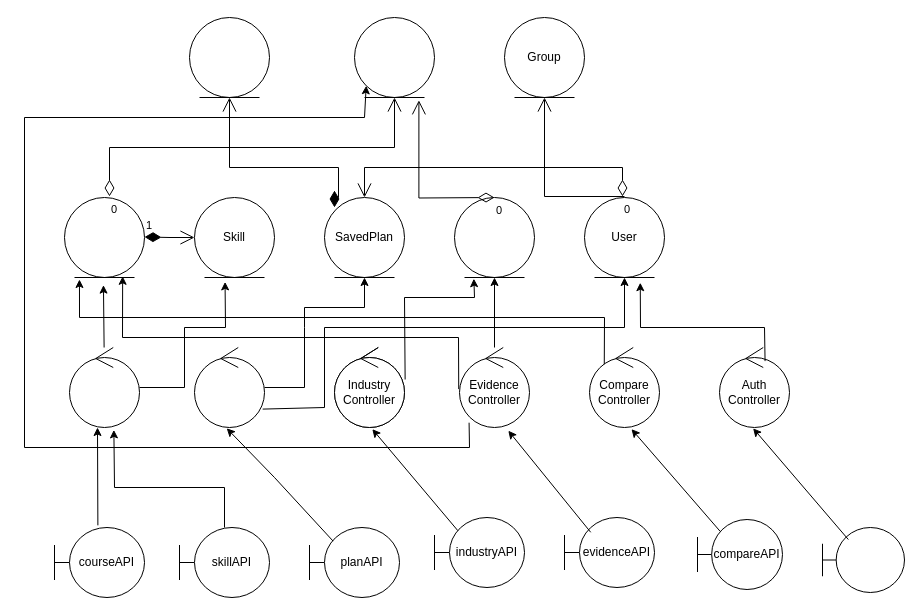
The diagram is 922 pixels wide and 615 high, and some of its shapes have lost their labels. Each missing label, with the box of its shape:
authAPI: (822, 526, 904, 592)
Course: (64, 196, 144, 278)
Course Controller: (68, 346, 140, 428)
Industry: (454, 196, 534, 278)
Metric: (354, 16, 434, 98)
Node: (188, 16, 270, 98)
Plan Controller: (194, 346, 264, 428)
